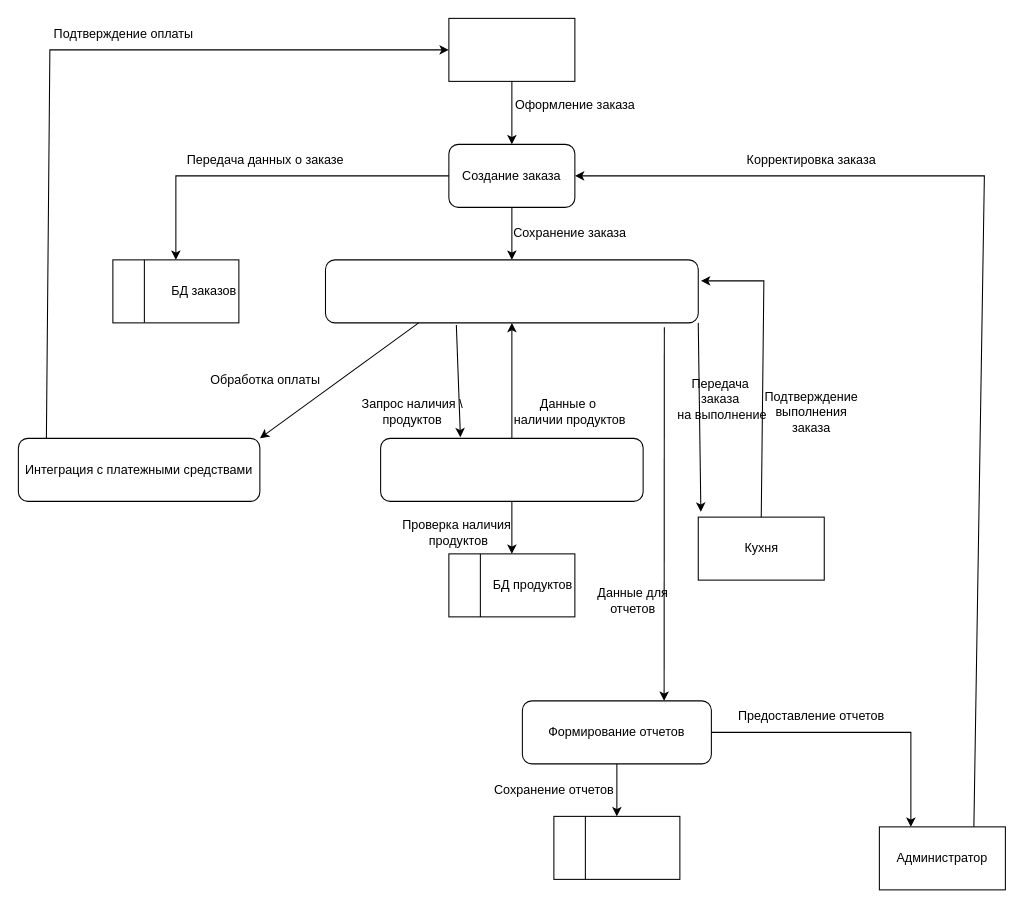
Image size: 1024x908. Some labels were removed from this diagram. The shapes that lost their labels are listed below. From the top down, each one's centre as x and y in pixels, then its label:
At (511,49): "Клиент".
At (511,291): "Обработка заказа".
At (511,469): "Управление складом".
At (616,847): "БД отчетов".
